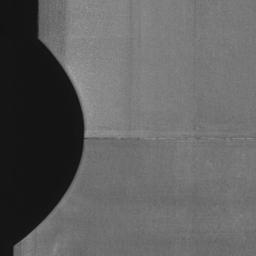Crescent gap: (16, 40, 84, 244)
